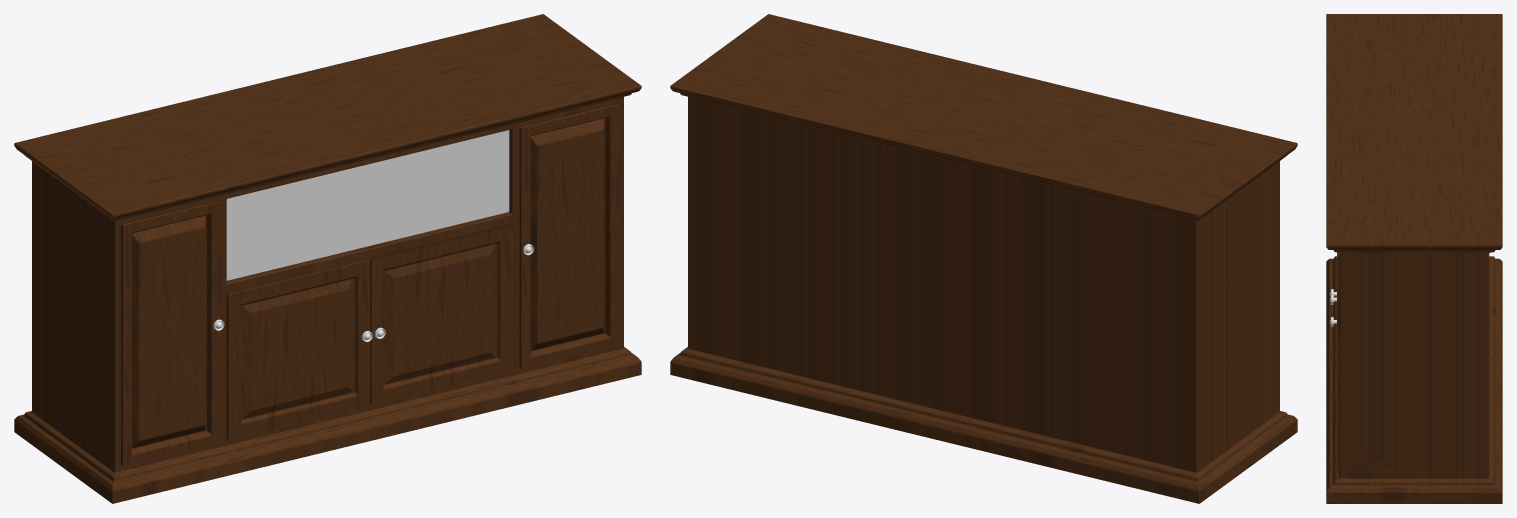
Rendered from MEJA TV 1.fbx.
3 renders of one model, left to right at view 1: azimuth 30°, elevation 25°; view 2: azimuth 150°, elevation 25°; view 3: azimuth 270°, elevation 25°, orthographic. The views are drawn at different scales.
Parts seen in each view (by area): view 1: ALMARI TV, BUKAAN 3, BUKAAN 2, BUKAAN1, KACA.001; view 2: ALMARI TV; view 3: ALMARI TV, BUKAAN1.
Boxes of the visible parts, x1,y1,x2,y2 form: ALMARI TV: (14,14,641,503); BUKAAN 3: (226,224,513,440); BUKAAN 2: (121,200,221,466); BUKAAN1: (519,103,619,368); KACA.001: (226,130,509,280); ALMARI TV: (670,14,1297,503); ALMARI TV: (1326,14,1502,503); BUKAAN1: (1337,252,1339,470).
Bounding box in the file's own units: 1565 × 817 × 504.
4 materials, 4 textured.
